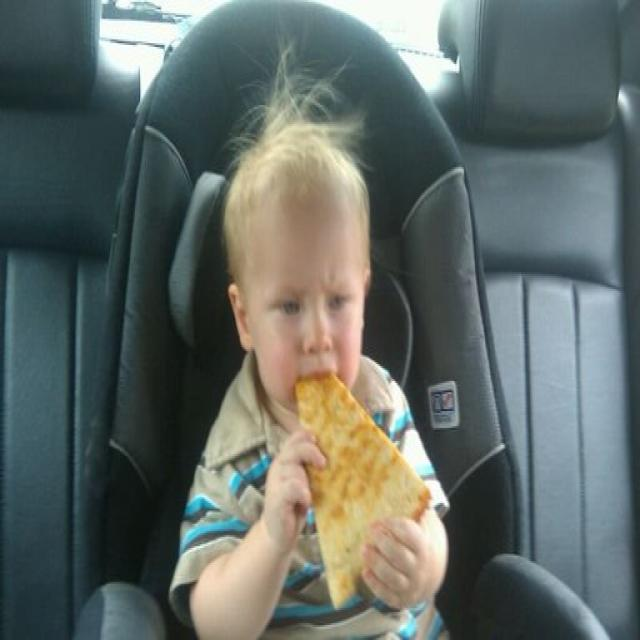Pizza: (294, 375, 430, 608)
